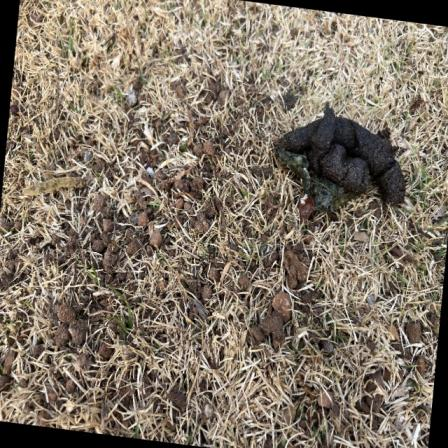dog-poop: (272, 106, 412, 206)
